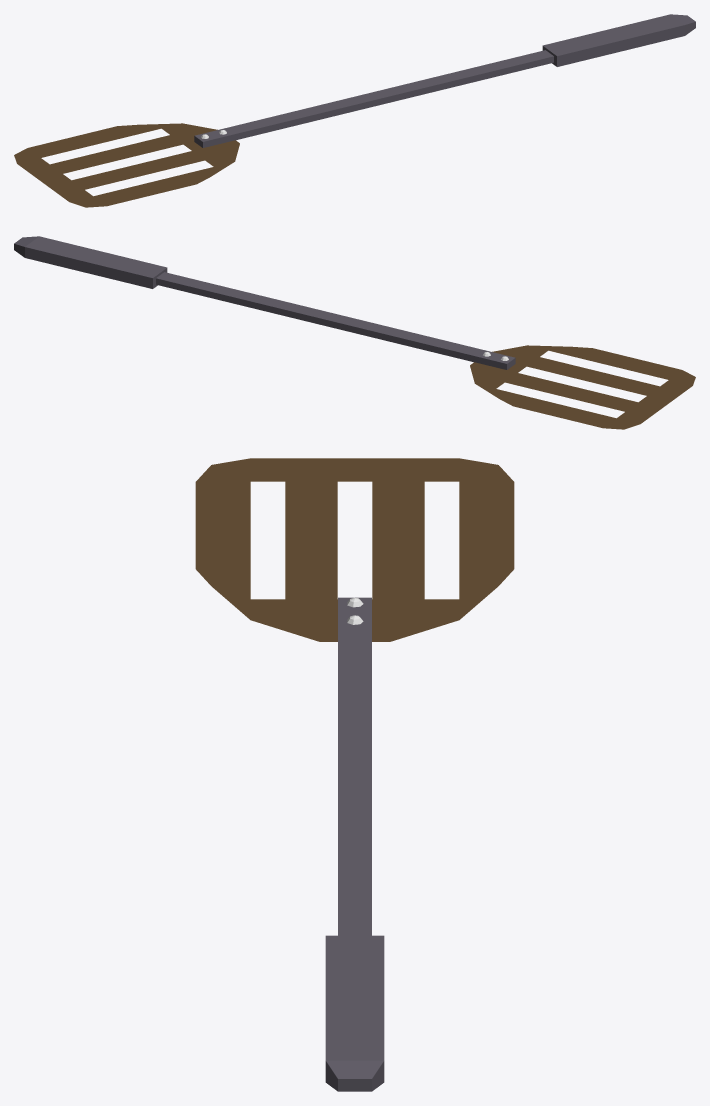
File: FlySwatter.fbx
The picture shows the model from 3 angles, top to bottom: view 1: azimuth 30°, elevation 25°; view 2: azimuth 150°, elevation 25°; view 3: azimuth 270°, elevation 25°; orthographic projection. The views are drawn at different scales.
Parts seen in each view (by area): view 1: Plane, Cube; view 2: Plane, Cube; view 3: Plane, Cube.
Boxes of the visible parts, x1,y1,x2,y2 form: Plane: [14, 123, 239, 207]; Cube: [194, 14, 695, 147]; Plane: [470, 345, 695, 429]; Cube: [14, 236, 515, 369]; Plane: [195, 458, 514, 641]; Cube: [325, 597, 384, 1091].
Bounding box in the file's own units: 941 × 18.27 × 200.
